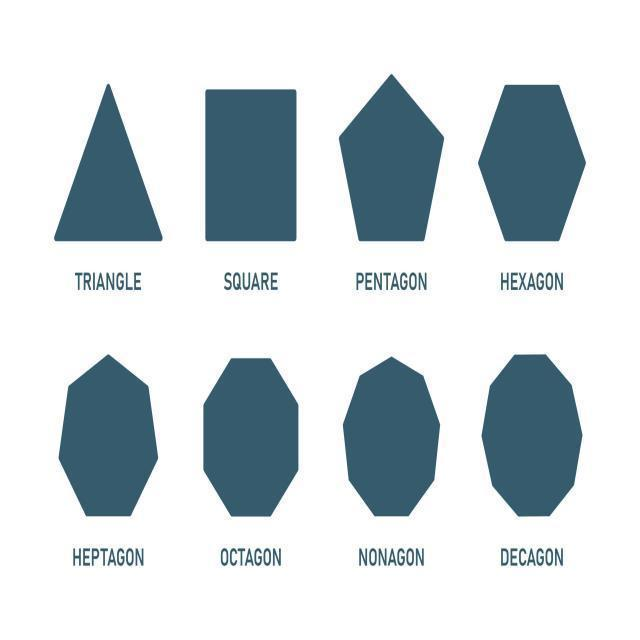square: (179, 73, 319, 260)
triangle: (39, 74, 179, 264)
